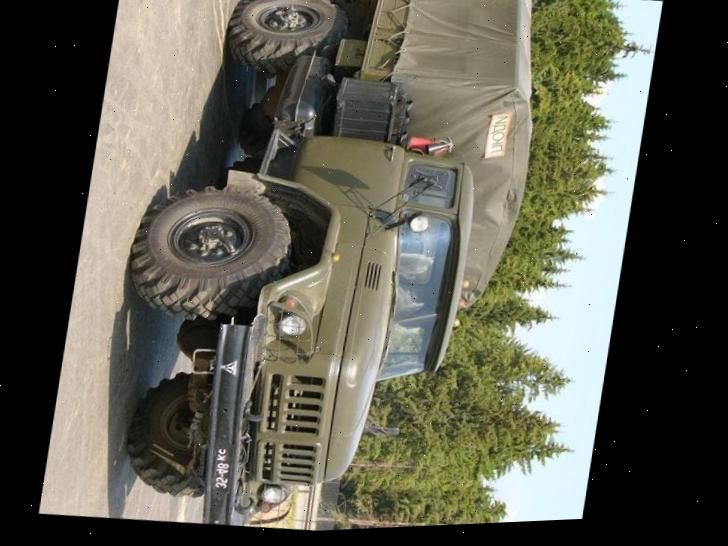truck: (100, 0, 562, 540)
